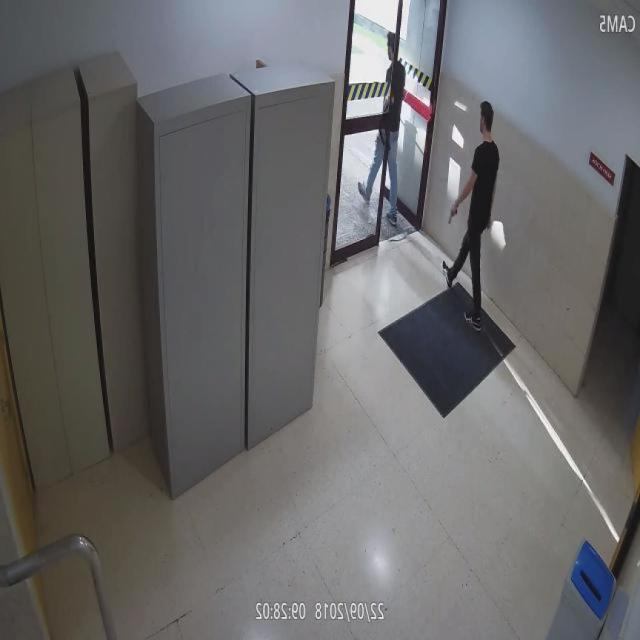pistol: (448, 200, 460, 227)
